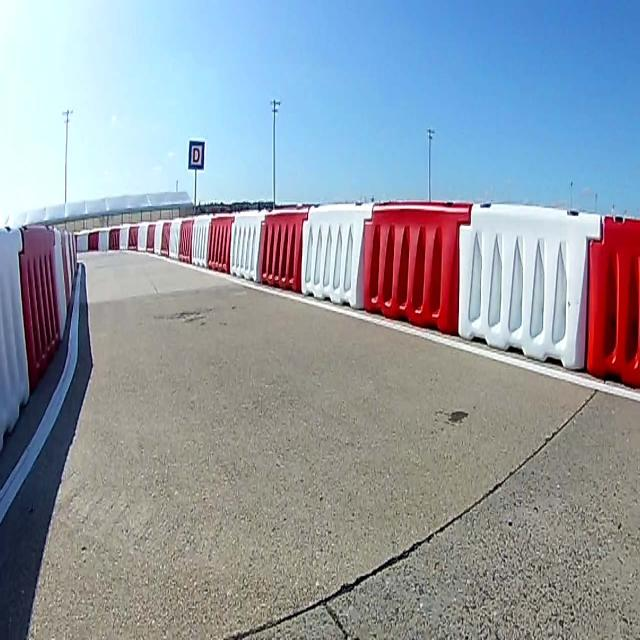durak: (188, 140, 204, 169)
